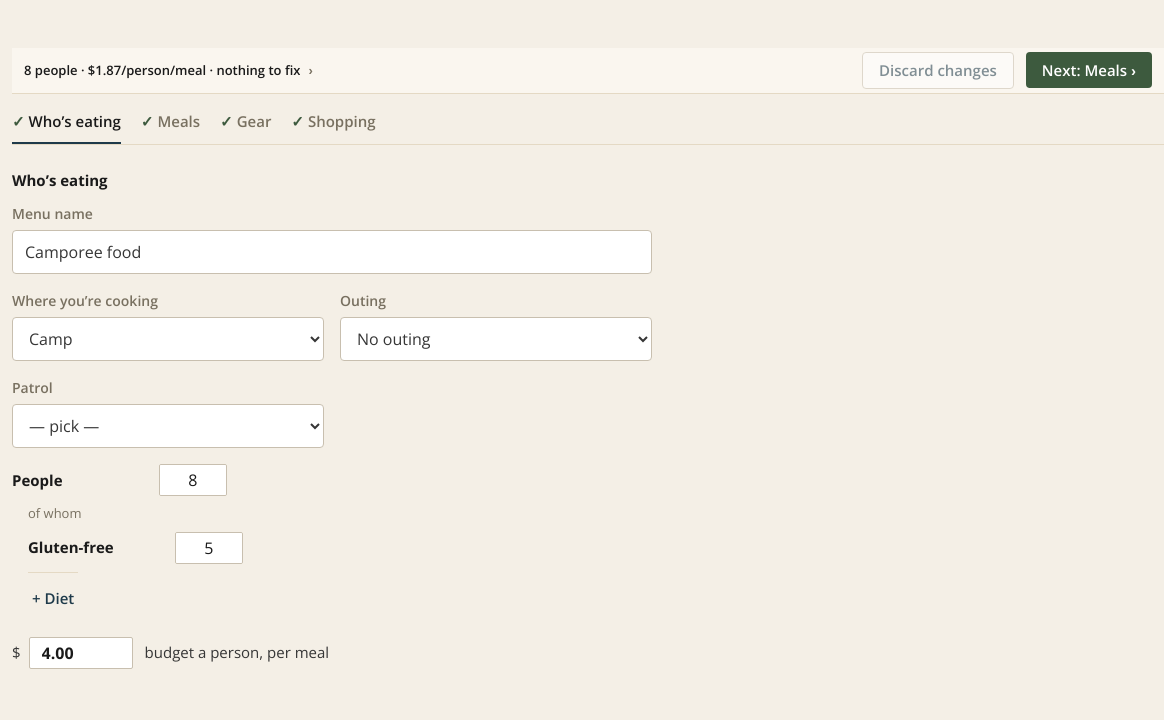
Test: PeopleTab — Who’s eating on its own screen › Diets_CannotExceedPeople_WhenTyped
Step 1. Replace the text in the number field labelled "Gluten-free" with "20" → (209, 548), box [176,533,242,563]
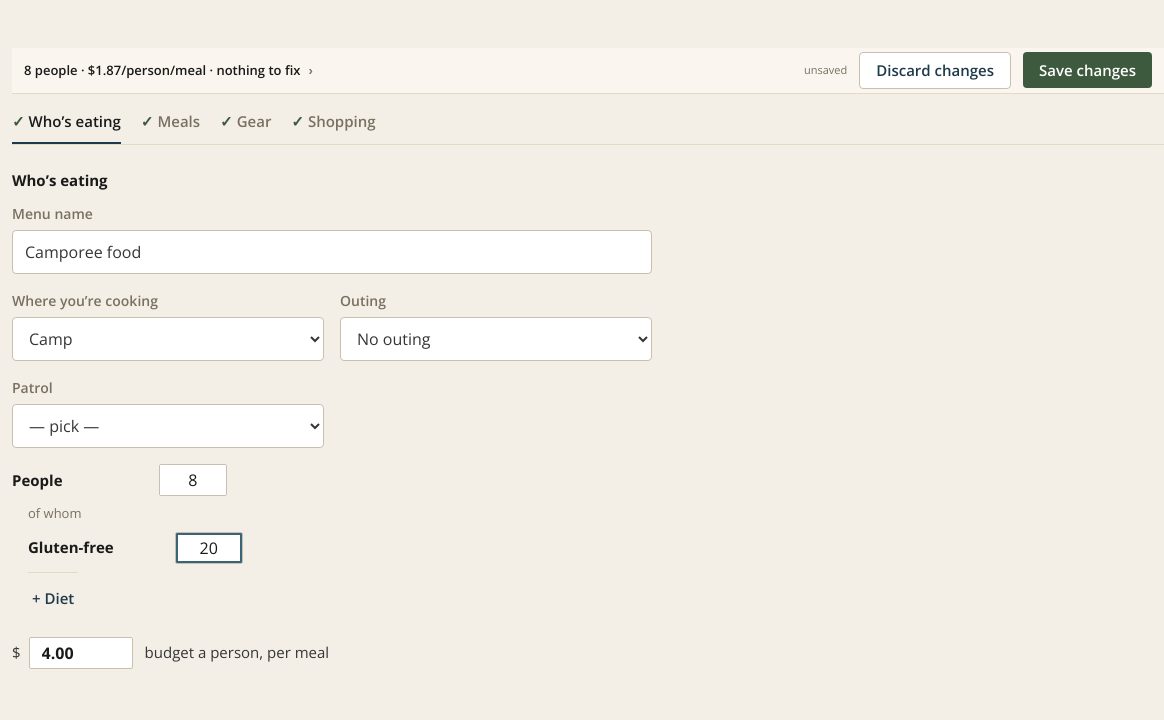
Step 2. Press Tab
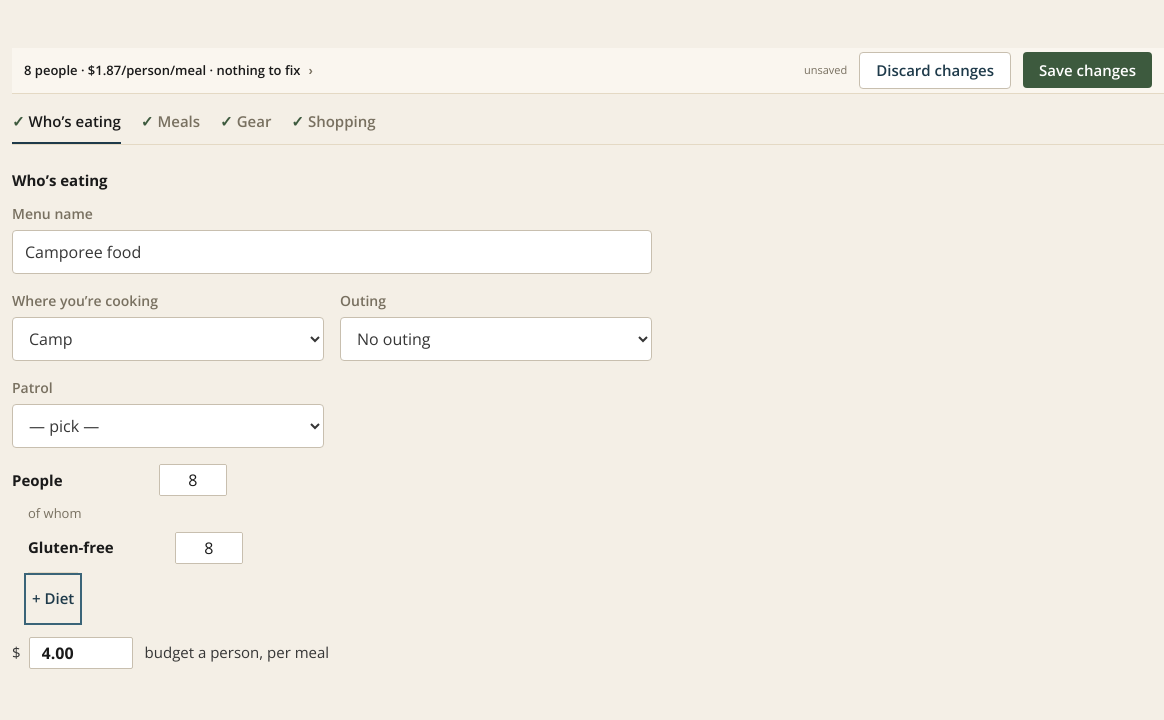
Check: the number field labelled "Gluten-free" holds "8", box [176,533,242,563]
